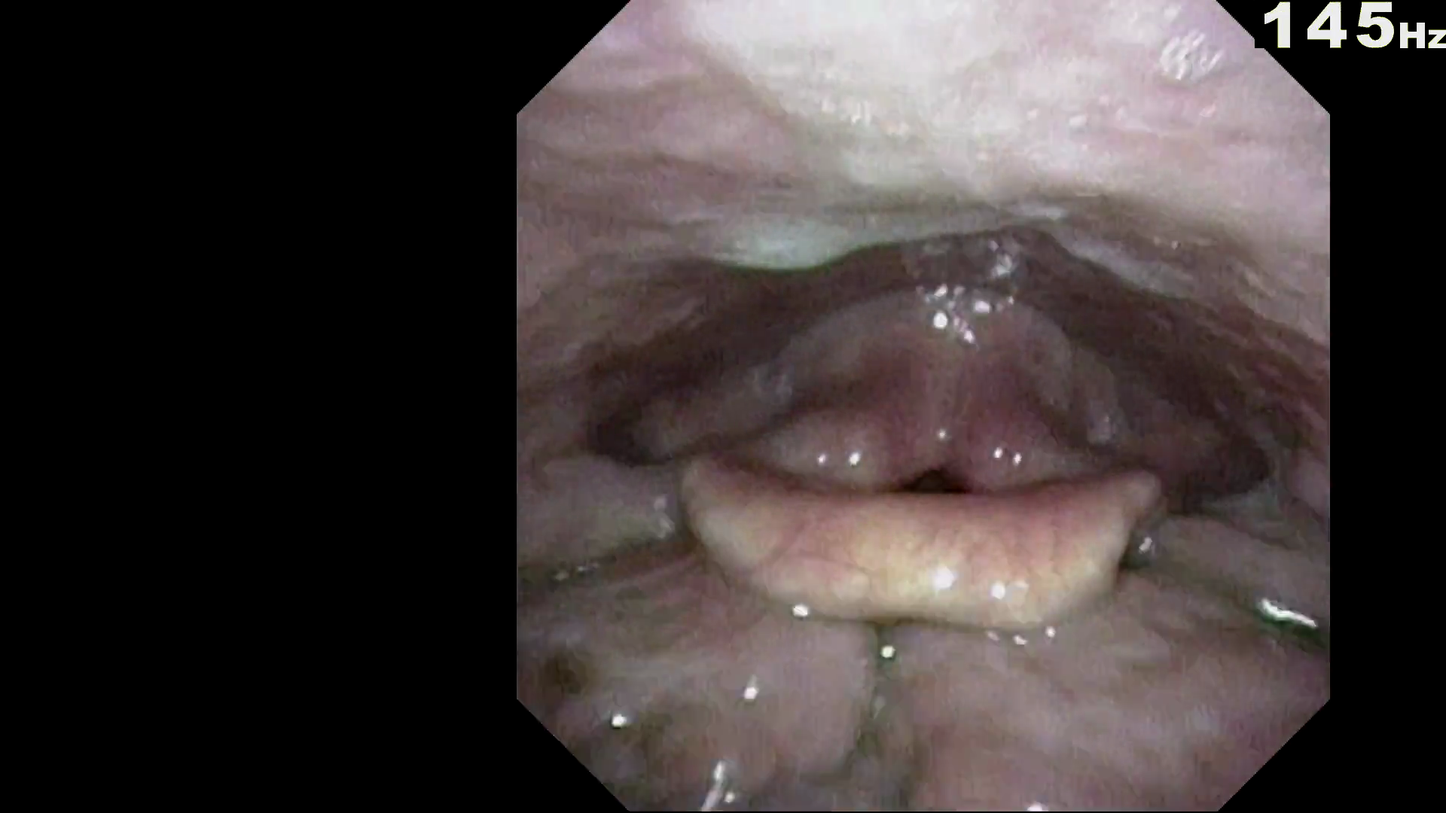epiglottis: (683, 479, 1185, 590)
